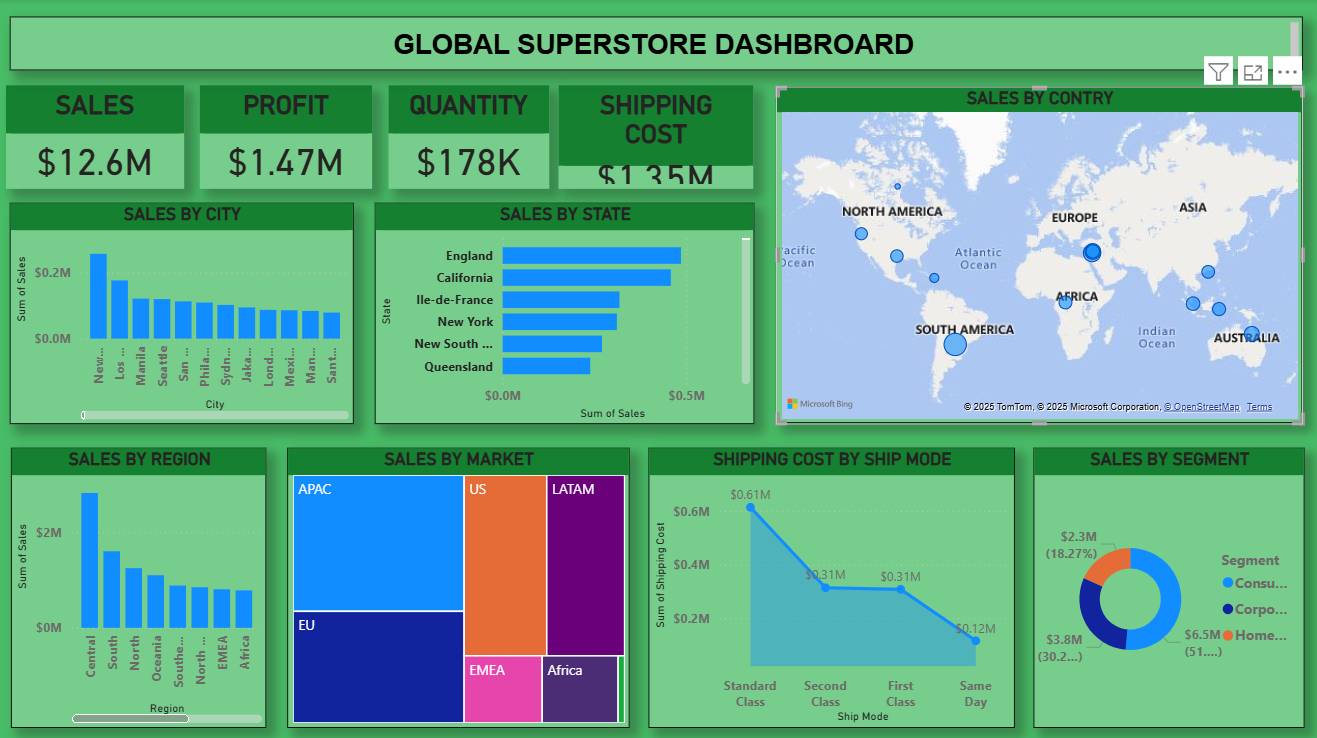

What the dashboard file says about the page in this screenshot:
{"tool":"powerbi","page":{"name":"Page 1","canvas":[1280,720],"ordinal":0},"visuals":[{"type":"card","title":"SALES","fields":{"Values":["Sum(Orders.Sales)"]},"box":[10,83.3,171.7,100],"z":0},{"type":"card","title":"PROFIT","fields":{"Values":["Sum(Orders.Profit)"]},"box":[196.7,83.3,166.7,100],"z":1000},{"type":"card","title":"QUANTITY","fields":{"Values":["Sum(Orders.Quantity)"]},"box":[378.3,83.3,155,100],"z":2000},{"type":"card","title":"SHIPPING COST","fields":{"Values":["Sum(Orders.Shipping Cost)"]},"box":[543.3,83.3,188.3,100],"z":3000},{"type":"stackedAreaChart","title":"SHIPPING COST BY SHIP MODE","fields":{"Y":["Sum(Orders.Shipping Cost)"],"Category":["Orders.Ship Mode"]},"box":[630,433.3,353.3,270],"z":4000},{"type":"donutChart","title":"SALES BY SEGMENT","fields":{"Y":["Sum(Orders.Sales)"],"Category":["Orders.Segment"]},"box":[1001.7,433.3,261.7,270],"z":5000},{"type":"treemap","title":"SALES BY MARKET","fields":{"Values":["Sum(Orders.Sales)"],"Group":["Orders.Market"]},"box":[281.7,433.3,330,270],"z":6000},{"type":"columnChart","title":"SALES BY REGION","fields":{"Y":["Sum(Orders.Sales)"],"Category":["Orders.Region"]},"box":[15,433.3,246.7,270],"z":7000},{"type":"map","title":"SALES BY CONTRY","fields":{"Category":["Orders.Region"],"Size":["Sum(Orders.Sales)"]},"box":[753.3,85,508.3,325],"z":8000},{"type":"textbox","box":[13.3,16.7,1248.3,51.7],"z":9000},{"type":"barChart","title":"SALES BY STATE","fields":{"Category":["Orders.State"],"Y":["Sum(Orders.Sales)"]},"box":[365,196.7,366.7,213.3],"z":10000},{"type":"columnChart","title":"SALES BY CITY","fields":{"Y":["Sum(Orders.Sales)"],"Category":["Orders.City"]},"box":[13.3,196.7,331.7,213.3],"z":11000}]}

Visuals, with their boxes in screenshot pixels (x1, y1, x2, y2), scaled from the page's 1280x720 canvas onto the 1317x738 screenshot:
"SALES" card: detection(10, 85, 187, 188)
"PROFIT" card: detection(202, 85, 374, 188)
"QUANTITY" card: detection(389, 85, 549, 188)
"SHIPPING COST" card: detection(559, 85, 753, 188)
"SHIPPING COST BY SHIP MODE" stackedAreaChart: detection(648, 444, 1012, 721)
"SALES BY SEGMENT" donutChart: detection(1031, 444, 1300, 721)
"SALES BY MARKET" treemap: detection(290, 444, 629, 721)
"SALES BY REGION" columnChart: detection(15, 444, 269, 721)
"SALES BY CONTRY" map: detection(775, 87, 1298, 420)
textbox: detection(14, 17, 1298, 70)
"SALES BY STATE" barChart: detection(376, 202, 753, 420)
"SALES BY CITY" columnChart: detection(14, 202, 355, 420)
